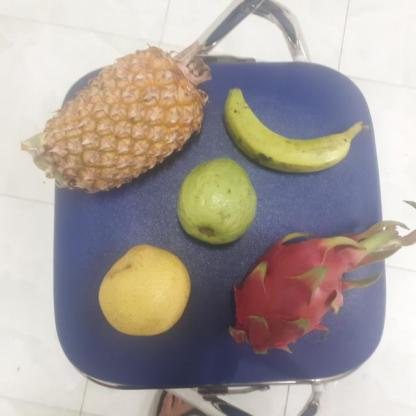banana: (216, 90, 356, 171)
guava: (174, 158, 257, 244)
pear: (91, 242, 194, 336)
pineapple: (34, 56, 202, 190)
pitaya: (213, 235, 368, 368), (226, 233, 332, 353)
